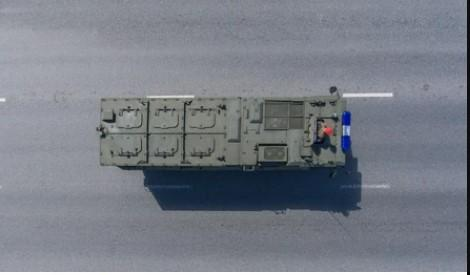armored_car: (94, 87, 366, 178)
